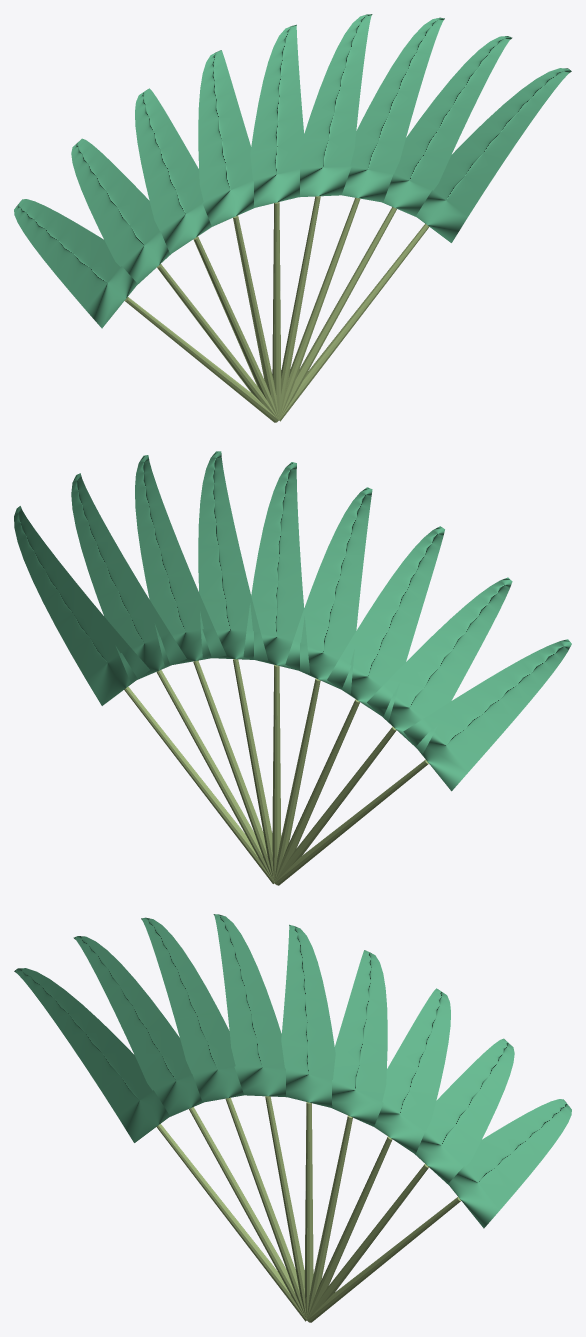
File: travellers_paddle_fan_tropical_island_and_palm_trees_6803.glb
3 views of the same model, one above another, from view 1: azimuth 30°, elevation 25°; view 2: azimuth 150°, elevation 25°; view 3: azimuth 330°, elevation 25° (orthographic).
Parts seen in each view (by area): view 1: travellers-fan; view 2: travellers-fan; view 3: travellers-fan.
Part boxes in pixels (box(x1,y1,x2,y2)): travellers-fan: box(14, 14, 571, 422); travellers-fan: box(14, 451, 571, 885); travellers-fan: box(14, 914, 571, 1322).
Size of the model in its own units: 4.57 by 3.22 by 0.285.
